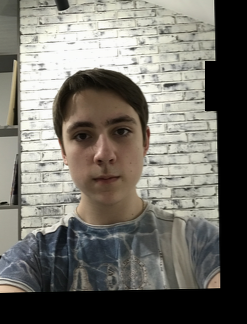without_mask: (62, 111, 145, 205)
